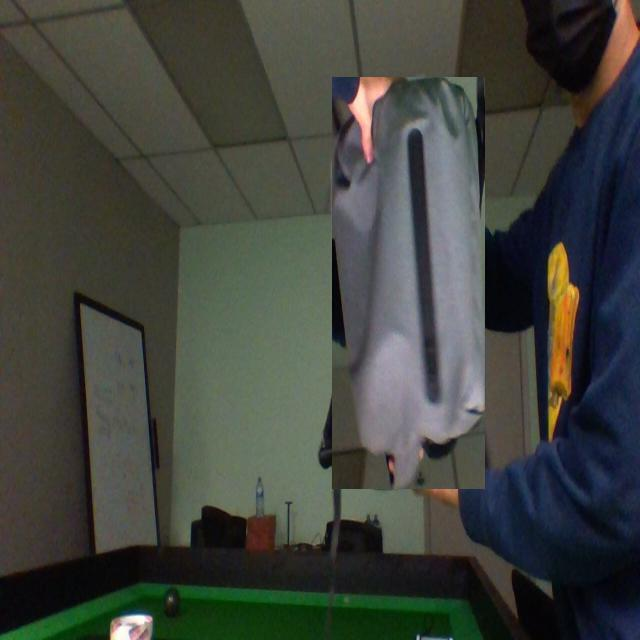Backpacks: (332, 77, 486, 490)
